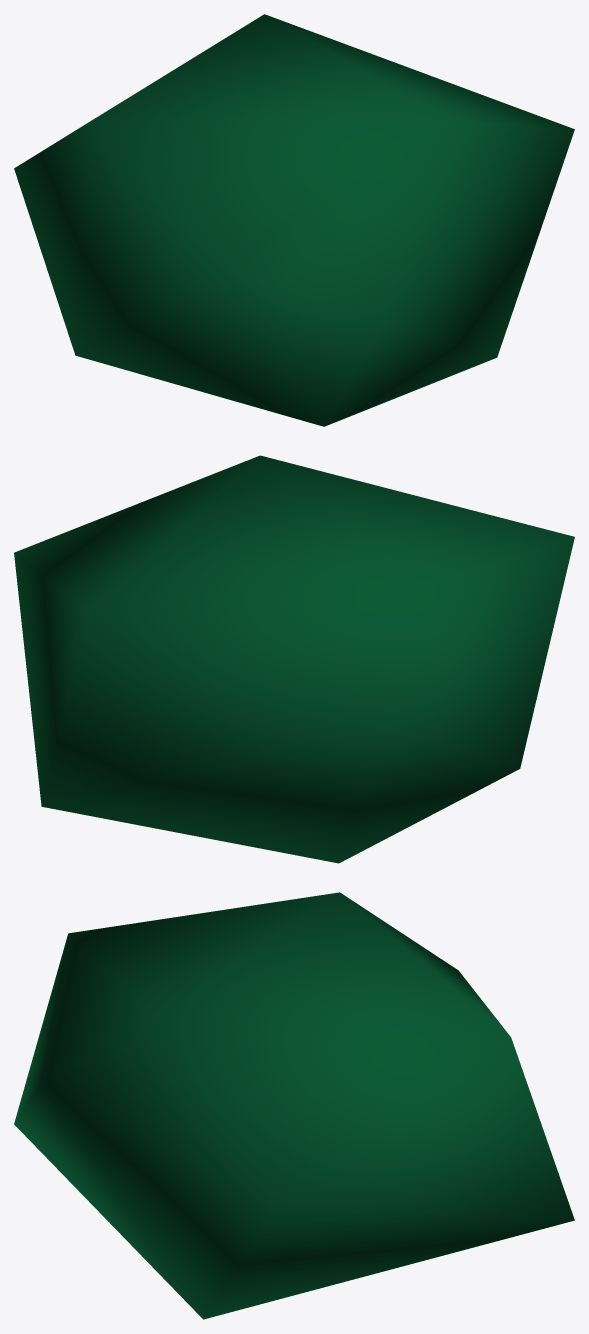
File: Bush2.fbx
3 renders of one model, top to bottom at view 1: azimuth 30°, elevation 25°; view 2: azimuth 150°, elevation 25°; view 3: azimuth 270°, elevation 25°, orthographic.
Visible parts, largest first — view 1: Bush2; view 2: Bush2; view 3: Bush2.
Part boxes in pixels (bbox=[...]): Bush2: bbox=[14, 14, 574, 426]; Bush2: bbox=[14, 455, 574, 863]; Bush2: bbox=[14, 892, 574, 1319].
Bounding box in the file's own units: 53.04 × 27.21 × 51.65.
